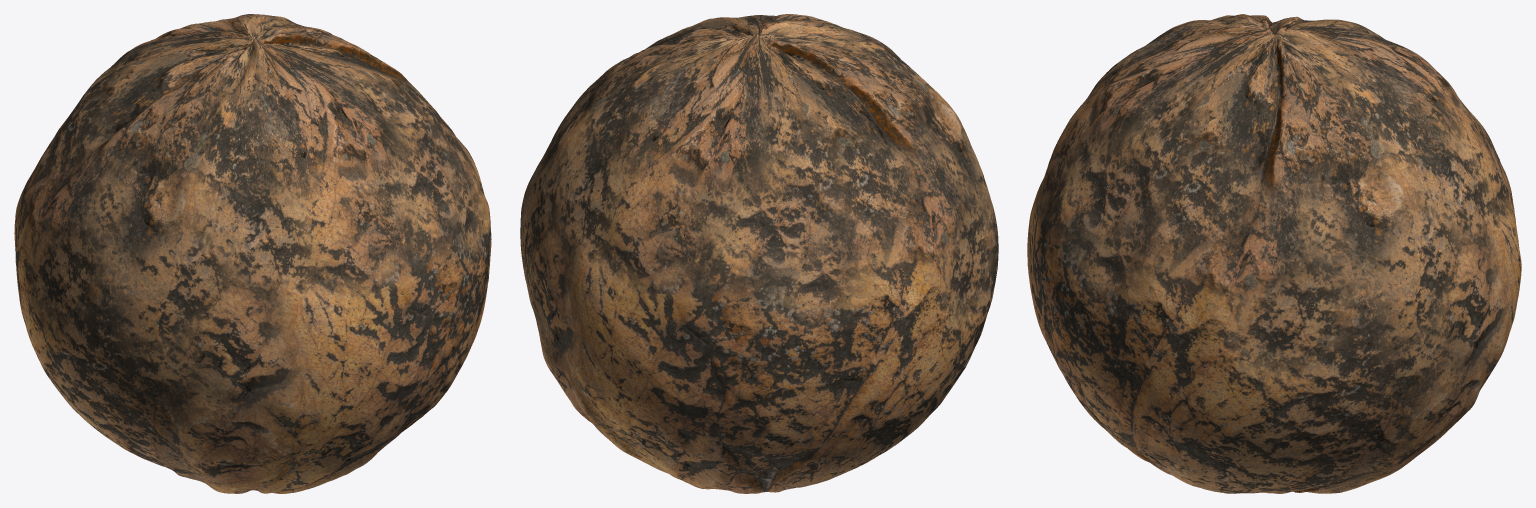
File: rock_06_2k.gltf
3 renders of one model, left to right at view 1: azimuth 30°, elevation 25°; view 2: azimuth 150°, elevation 25°; view 3: azimuth 270°, elevation 25°, orthographic. The views are drawn at different scales.
Parts seen in each view (by area): view 1: sphere_gltf; view 2: sphere_gltf; view 3: sphere_gltf.
Boxes of the visible parts, left/top/right/bottom form: sphere_gltf: left=14, top=14, right=491, bottom=493; sphere_gltf: left=520, top=14, right=998, bottom=493; sphere_gltf: left=1027, top=14, right=1521, bottom=493.
Size of the model in its own units: 1.53 by 1.57 by 1.54.
Materials: 1 (1 with a texture image).
